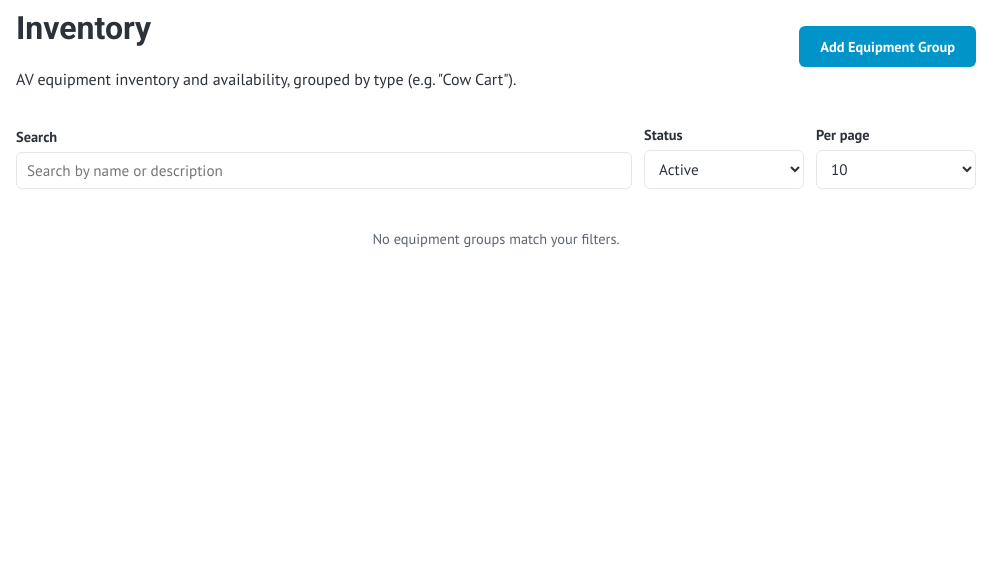
Test: creates a new equipment group and refreshes the list
The width and height of the screenshot is (993, 581).
Expected: the text "No equipment groups match your filters." is shown, x1=372 y1=229 x2=620 y2=248
Click the button "Add Equipment Group".
click(888, 46)  # box x1=799 y1=26 x2=976 y2=67
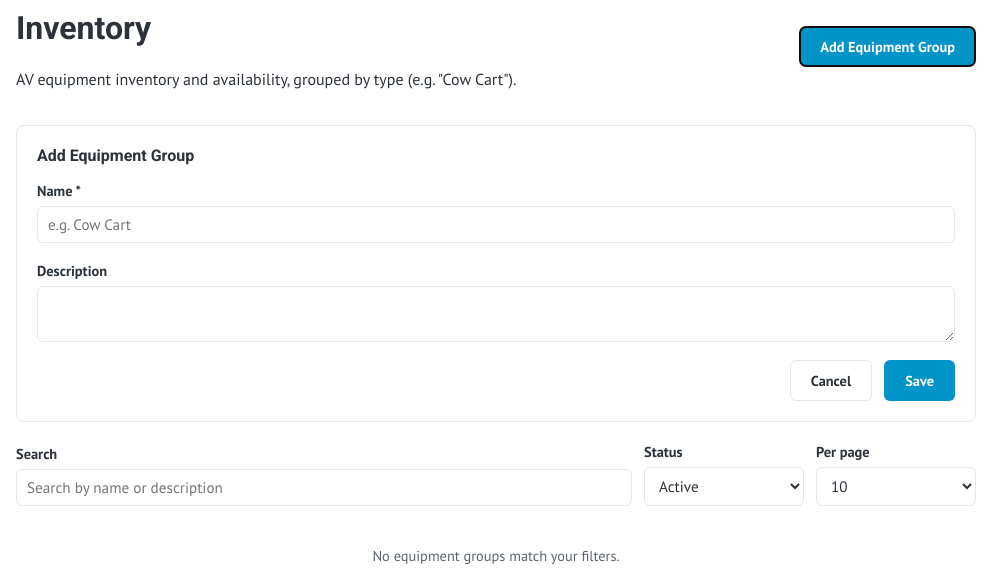
Type "Projector Kit" into the field labelled "Name *".
click(496, 224); type("Projector Kit")  # box x1=37 y1=206 x2=955 y2=243
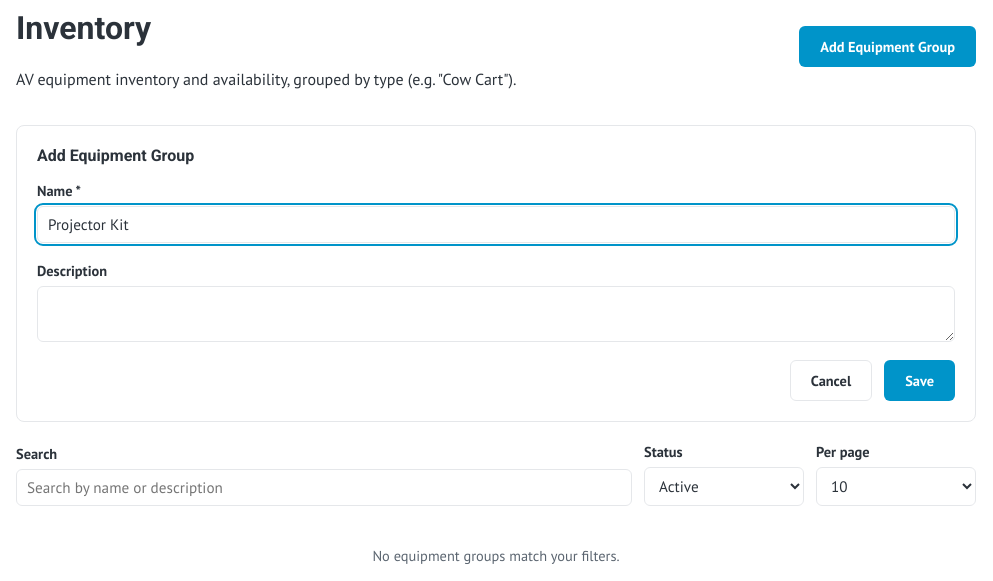
Click the button "Save".
click(920, 380)  # box x1=884 y1=360 x2=955 y2=401
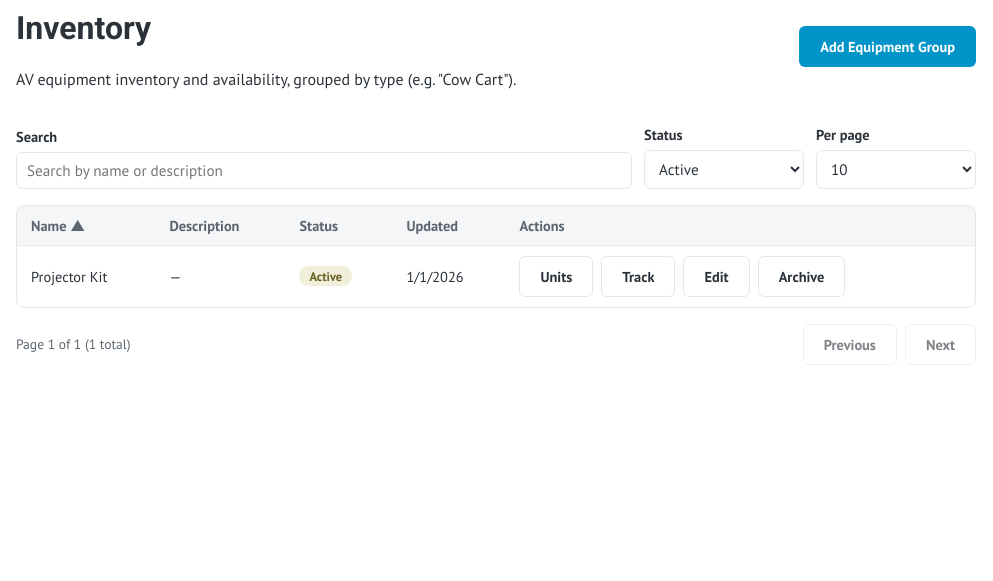
Expected: the text "Projector Kit" is shown, x1=17 y1=245 x2=155 y2=307
